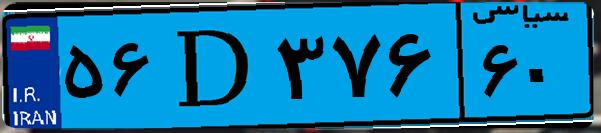0: (525, 38, 570, 115)
3: (270, 28, 330, 110)
5: (57, 26, 110, 100)
6: (385, 28, 445, 110), (475, 38, 525, 113), (110, 28, 158, 98)
7: (330, 28, 385, 110)
D: (158, 12, 270, 120)
